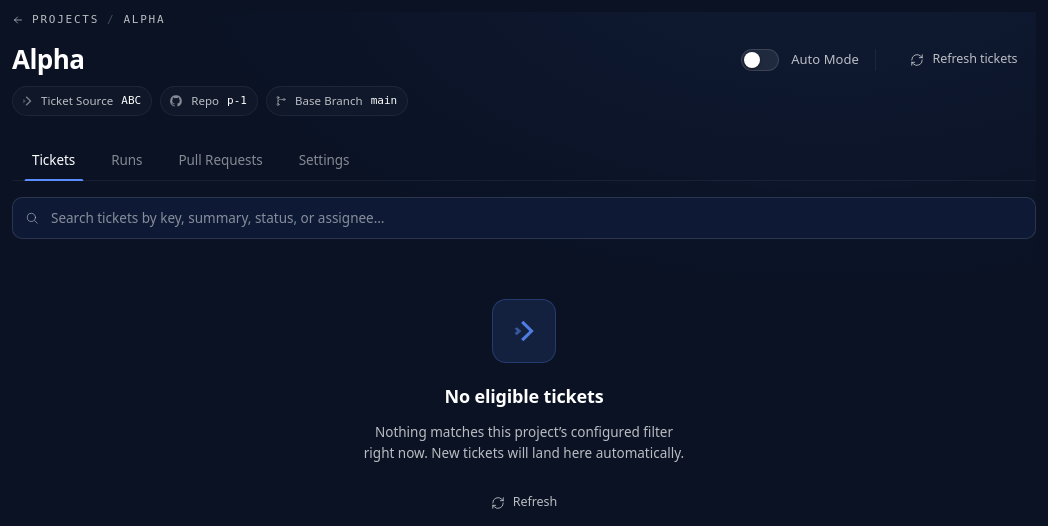
<ProjectDetail> PRs tab — #GH-67 › PRS-002: renders empty state when pulls.list returns zero rows
The image size is (1048, 526).
Click the tab "Pull Requests" at point(221, 160), box [162, 140, 279, 180]
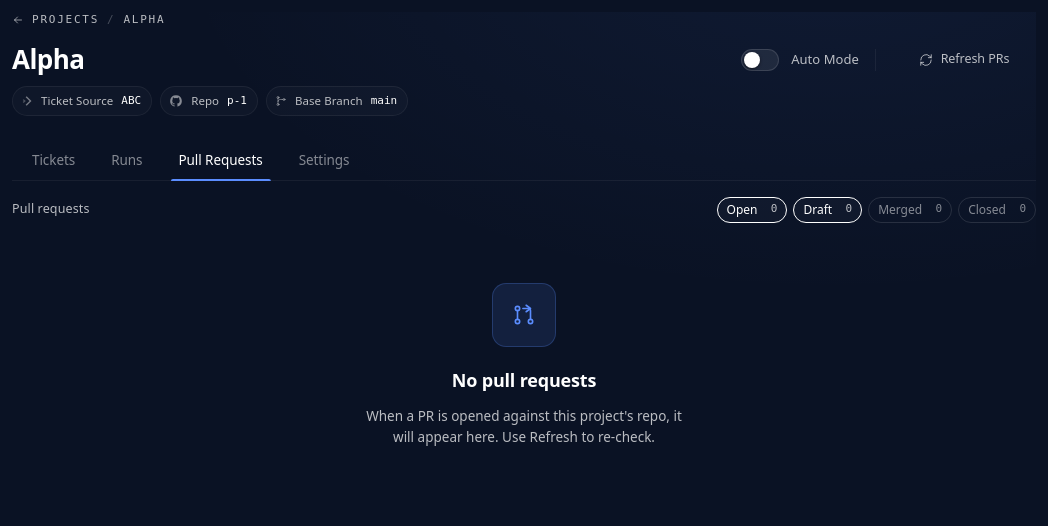
Check: the element with test id "tab-empty-prs" is shown, box [366, 283, 682, 446]
